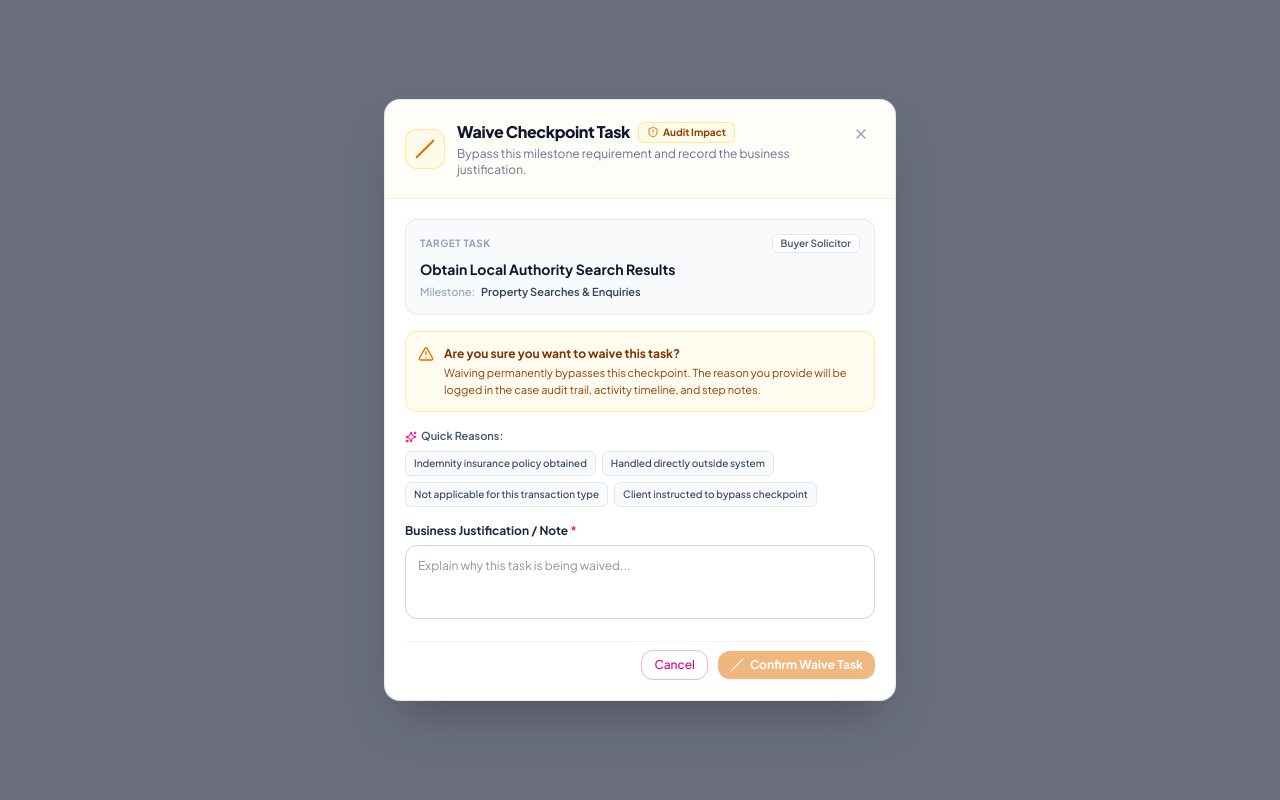
WaiveWorkItemModal › populates textarea when clicking a quick reason chip
Click the button "Indemnity insurance policy obtained": click(500, 463) [405,451,596,476]
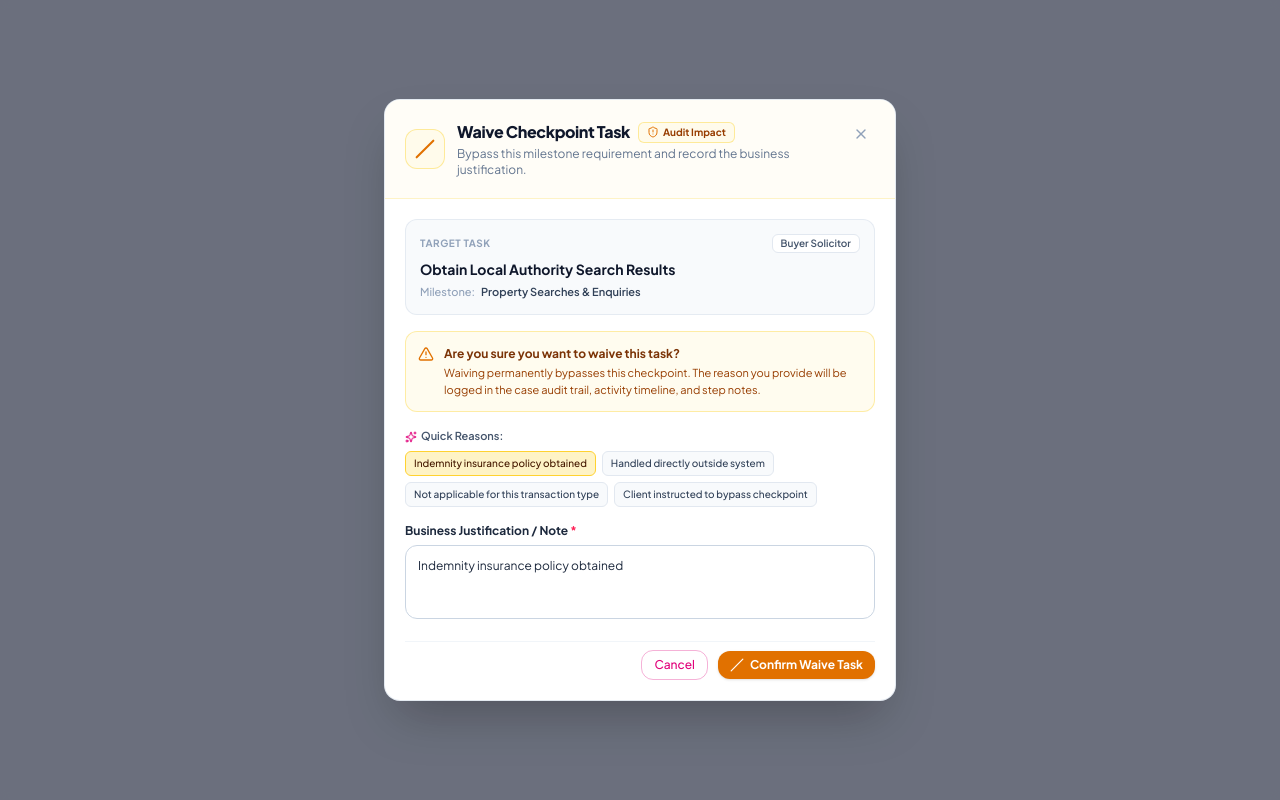
Expected: the text box labelled "Business Justification / Note *" holds "Indemnity insurance policy obtained", [405,545,875,619]
